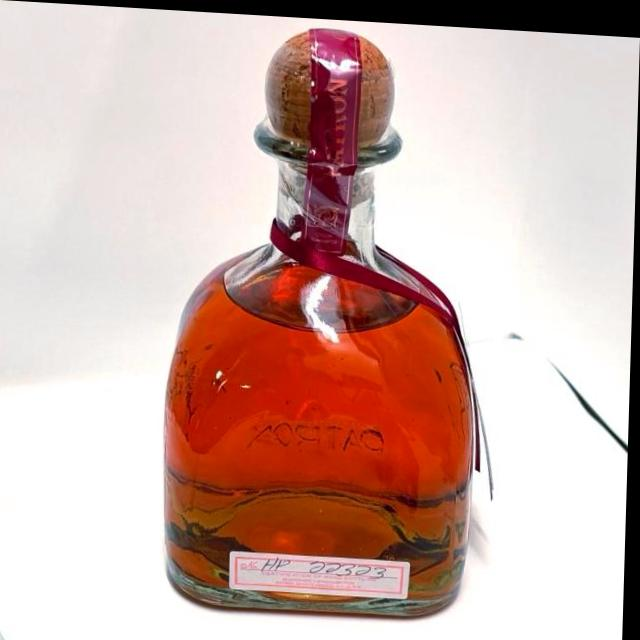Patron Extra Anejo Tequila- 750 mL Bottle- ABV 40-: (165, 24, 485, 616)
